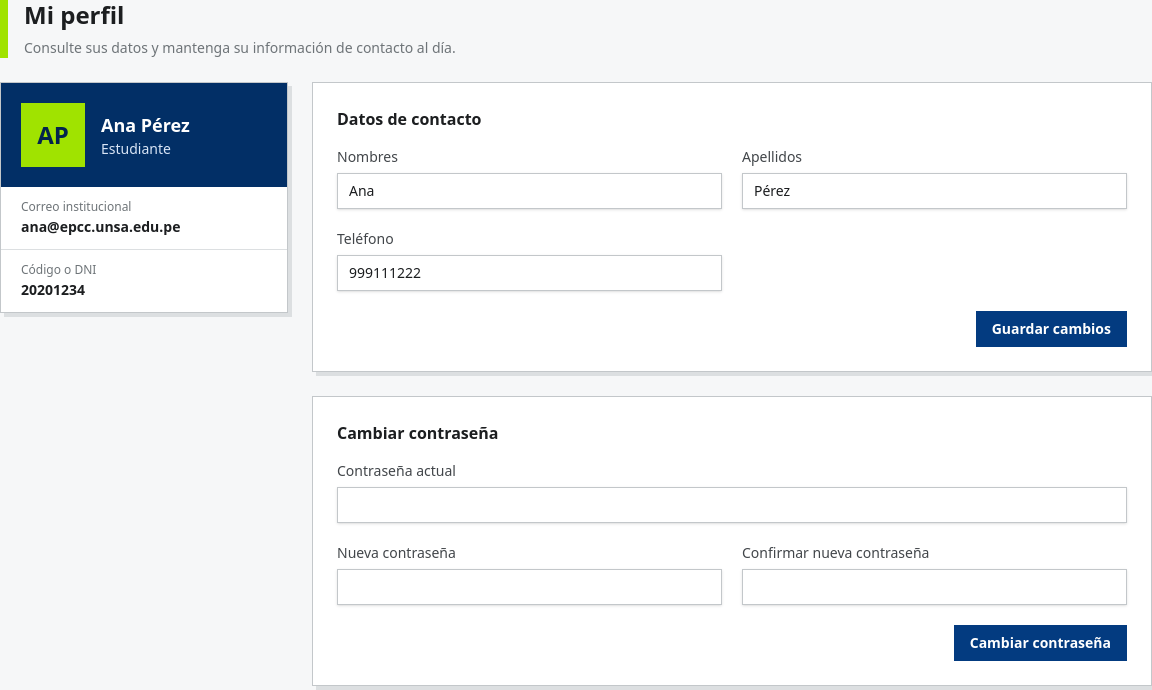
Test: ProfilePage › muestra el error del backend si la contraseña actual es incorrecta
Expected: the text "ana@epcc.unsa.edu.pe" is shown, [21, 217, 180, 236]
Type "mala" into the password field labelled "Contraseña actual".
click(732, 505); type("mala")  # box [337, 487, 1127, 523]
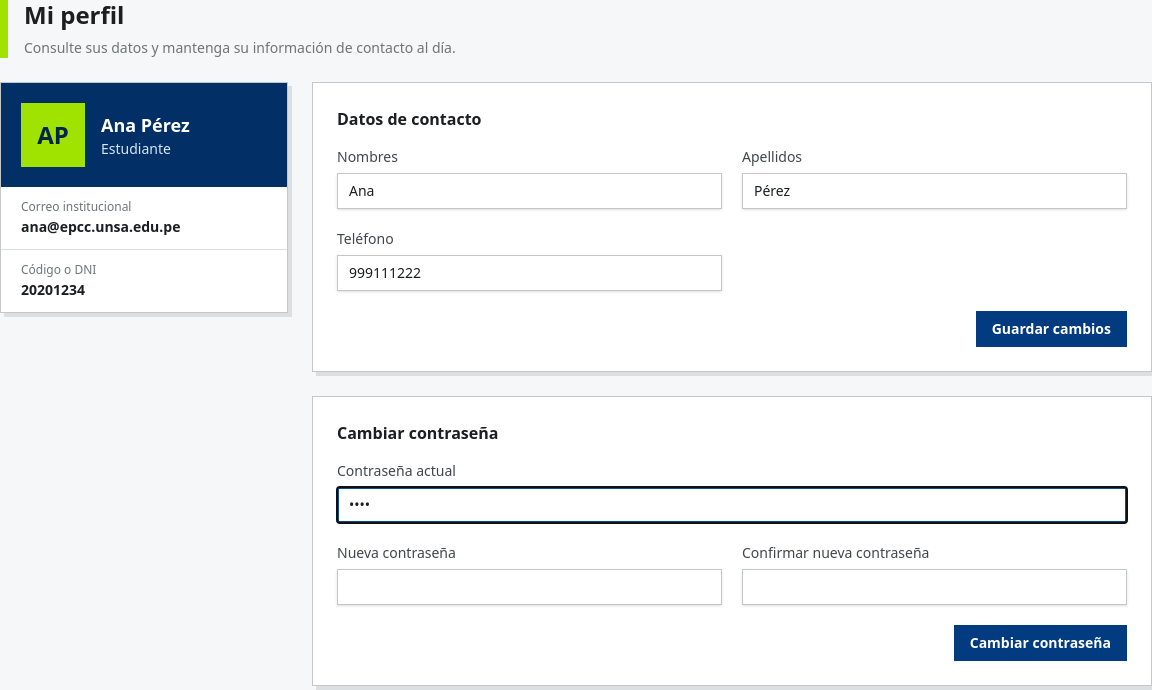
Type "NuevaClave99" into the password field labelled "Nueva contraseña".
click(530, 587); type("NuevaClave99")  # box [337, 569, 722, 605]
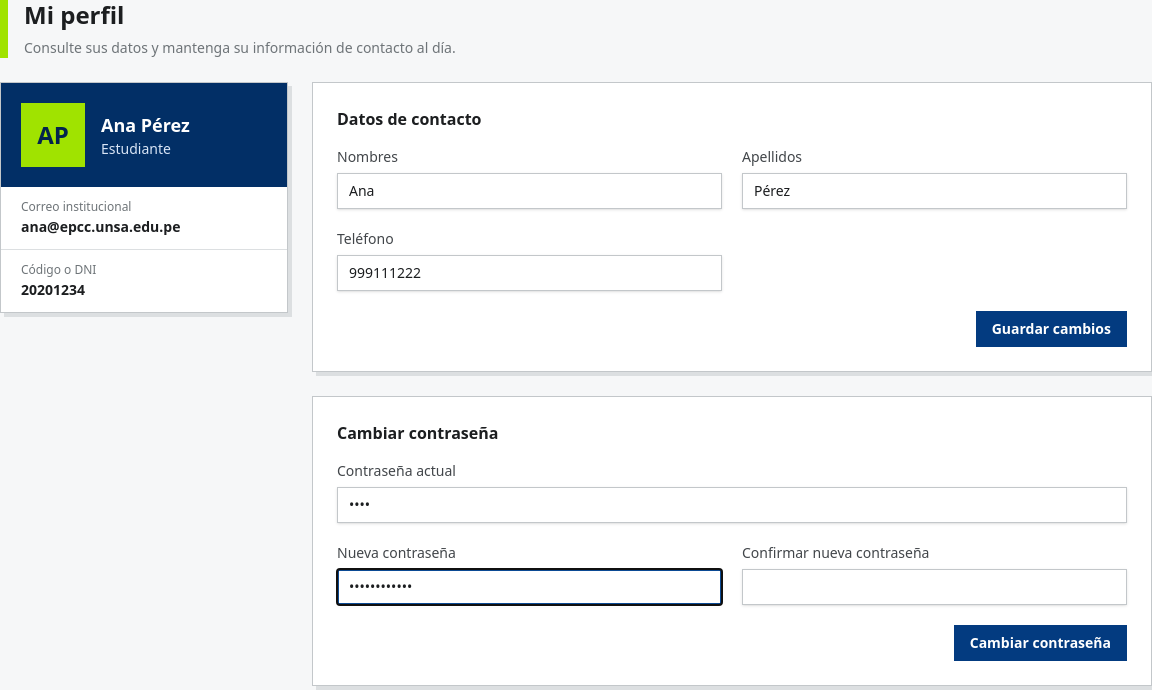
Type "NuevaClave99" into the password field labelled "Confirmar nueva contraseña".
click(934, 587); type("NuevaClave99")  # box [742, 569, 1127, 605]
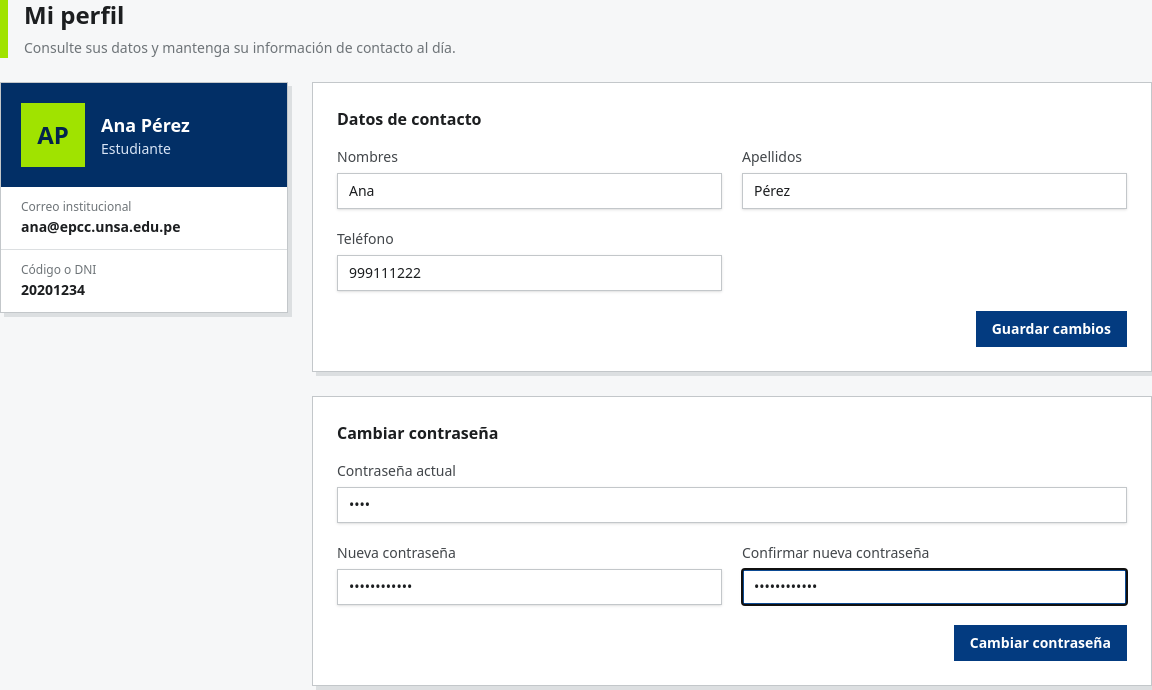
Click the button "Cambiar contraseña".
click(1040, 643)  # box [954, 625, 1127, 661]
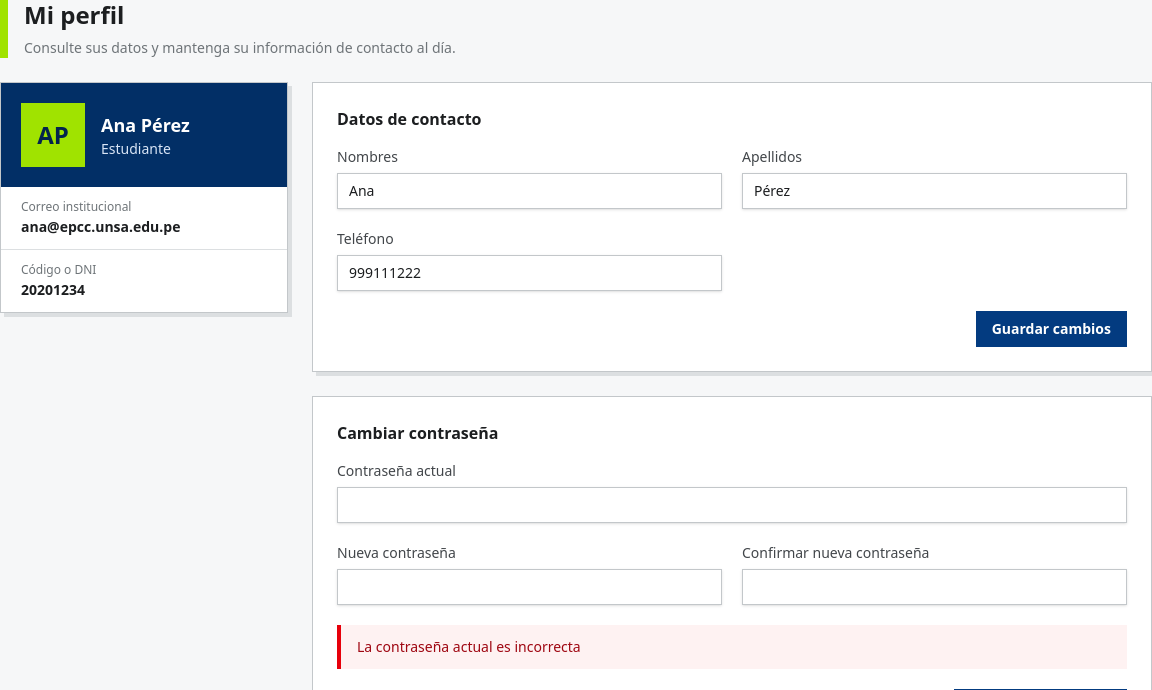
Result: the text "La contraseña actual es incorrecta" is shown at [337, 625, 1127, 669]
